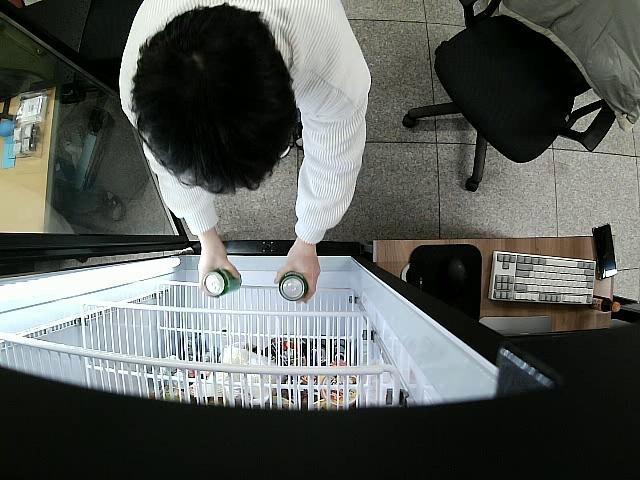12_chilsungCider: (203, 269, 243, 296), (278, 271, 308, 301)
